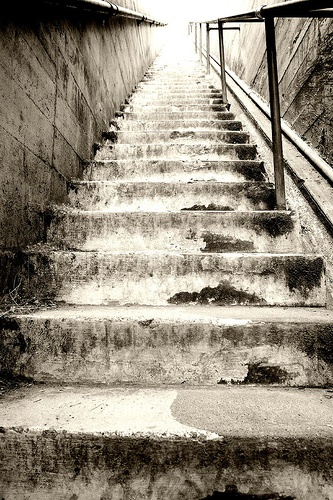stairs_up: (34, 51, 313, 494)
